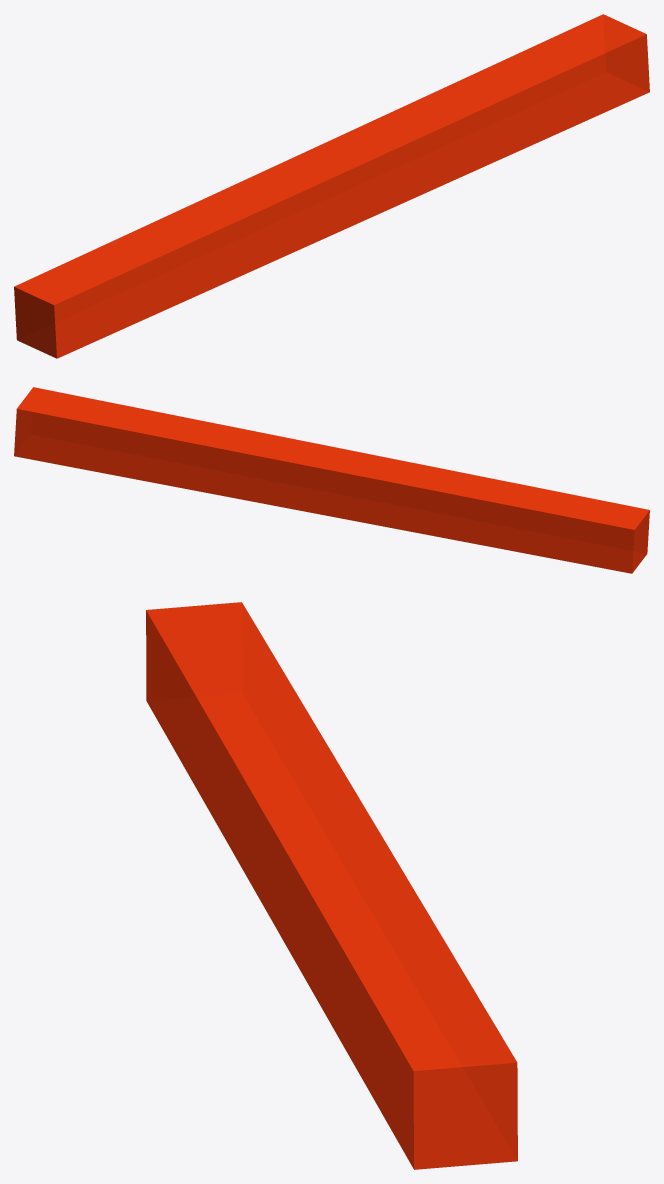
The model's file is Event_420107950_EErechit_46.fbx.
3 views of the same model, one above another, from view 1: azimuth 30°, elevation 25°; view 2: azimuth 150°, elevation 25°; view 3: azimuth 270°, elevation 25° (orthographic). The views are drawn at different scales.
Visible parts, largest first — view 1: Model; view 2: Model; view 3: Model.
Boxes of the visible parts, <box> form: Model: <box>14,14,649,358</box>; Model: <box>14,387,649,573</box>; Model: <box>146,602,517,1169</box>.
Bounding box in the file's own units: 0.9595 × 0.1346 × 0.2753.
